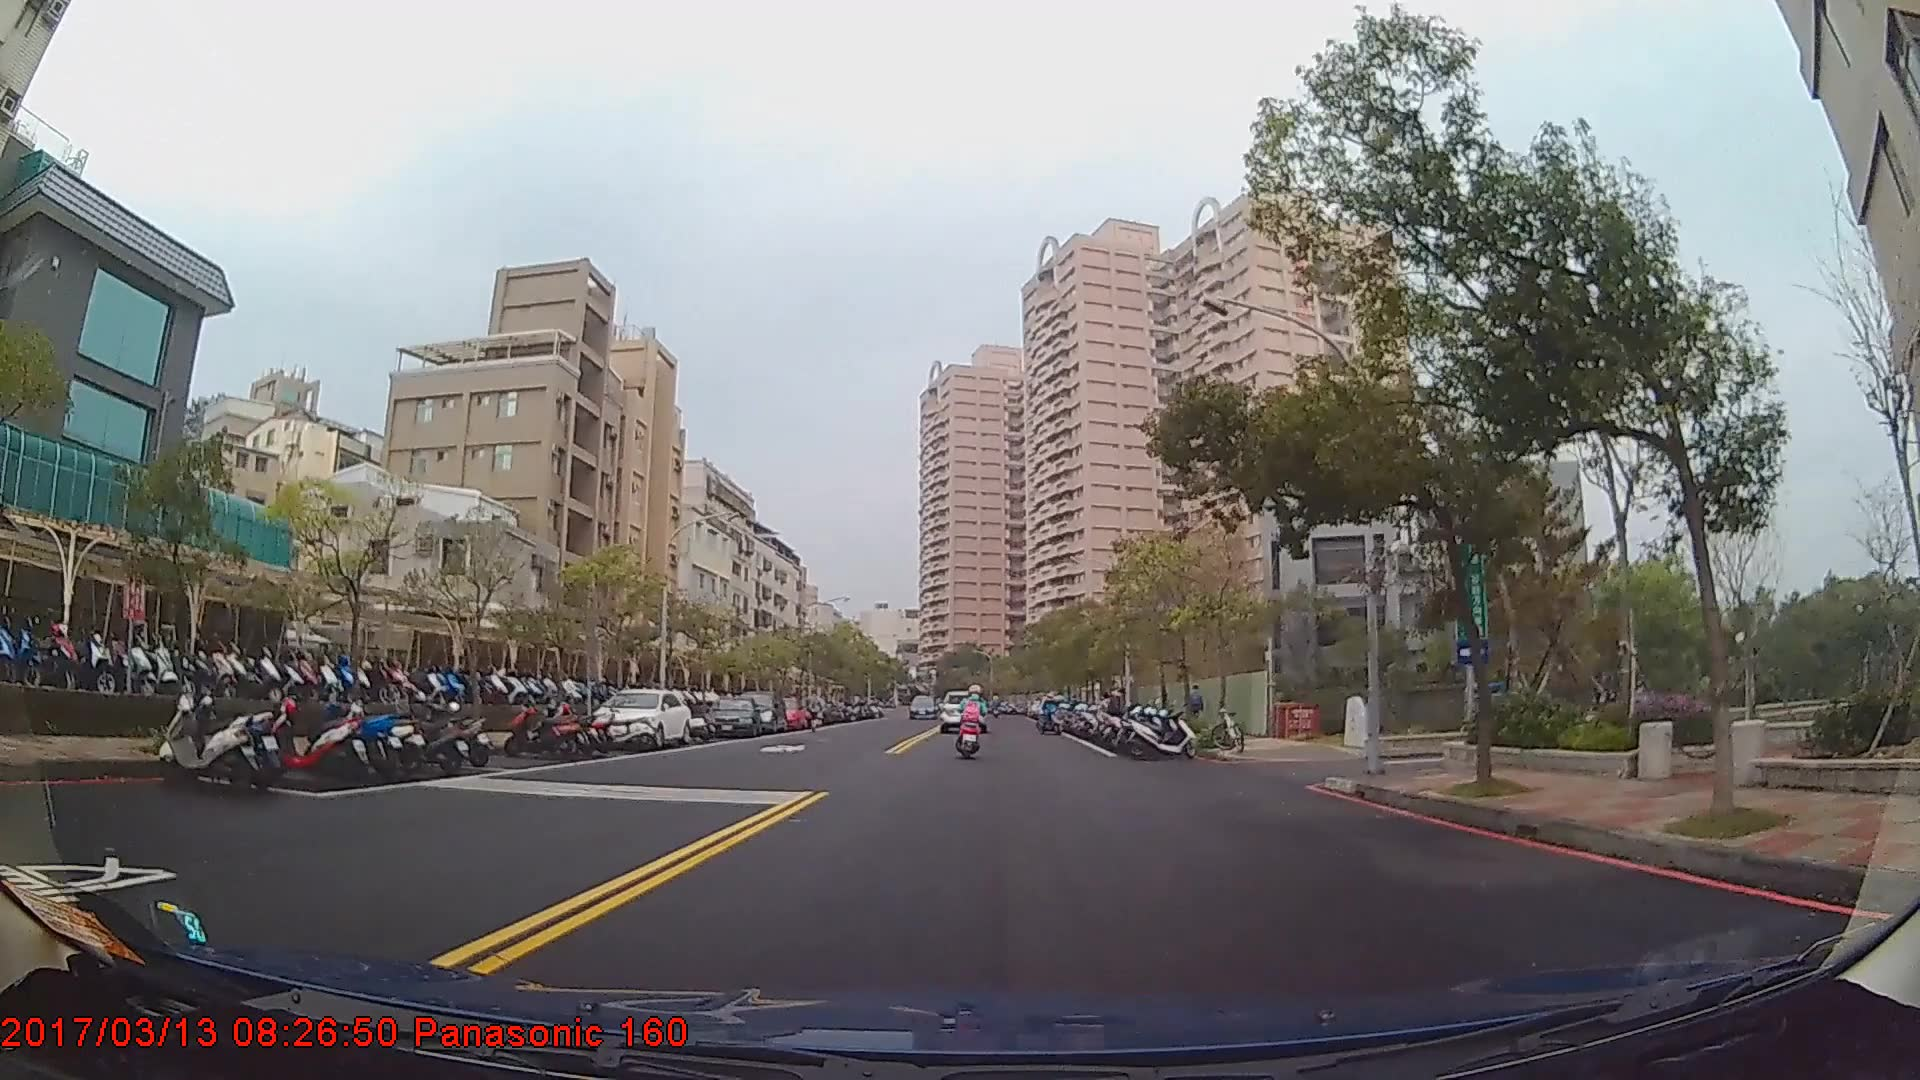pedestrian: (1185, 686, 1206, 740)
rider: (958, 684, 988, 756), (1039, 692, 1063, 735)
vehicle: (586, 685, 691, 747), (732, 686, 787, 732), (703, 695, 762, 737), (941, 688, 989, 733), (908, 692, 935, 717)
